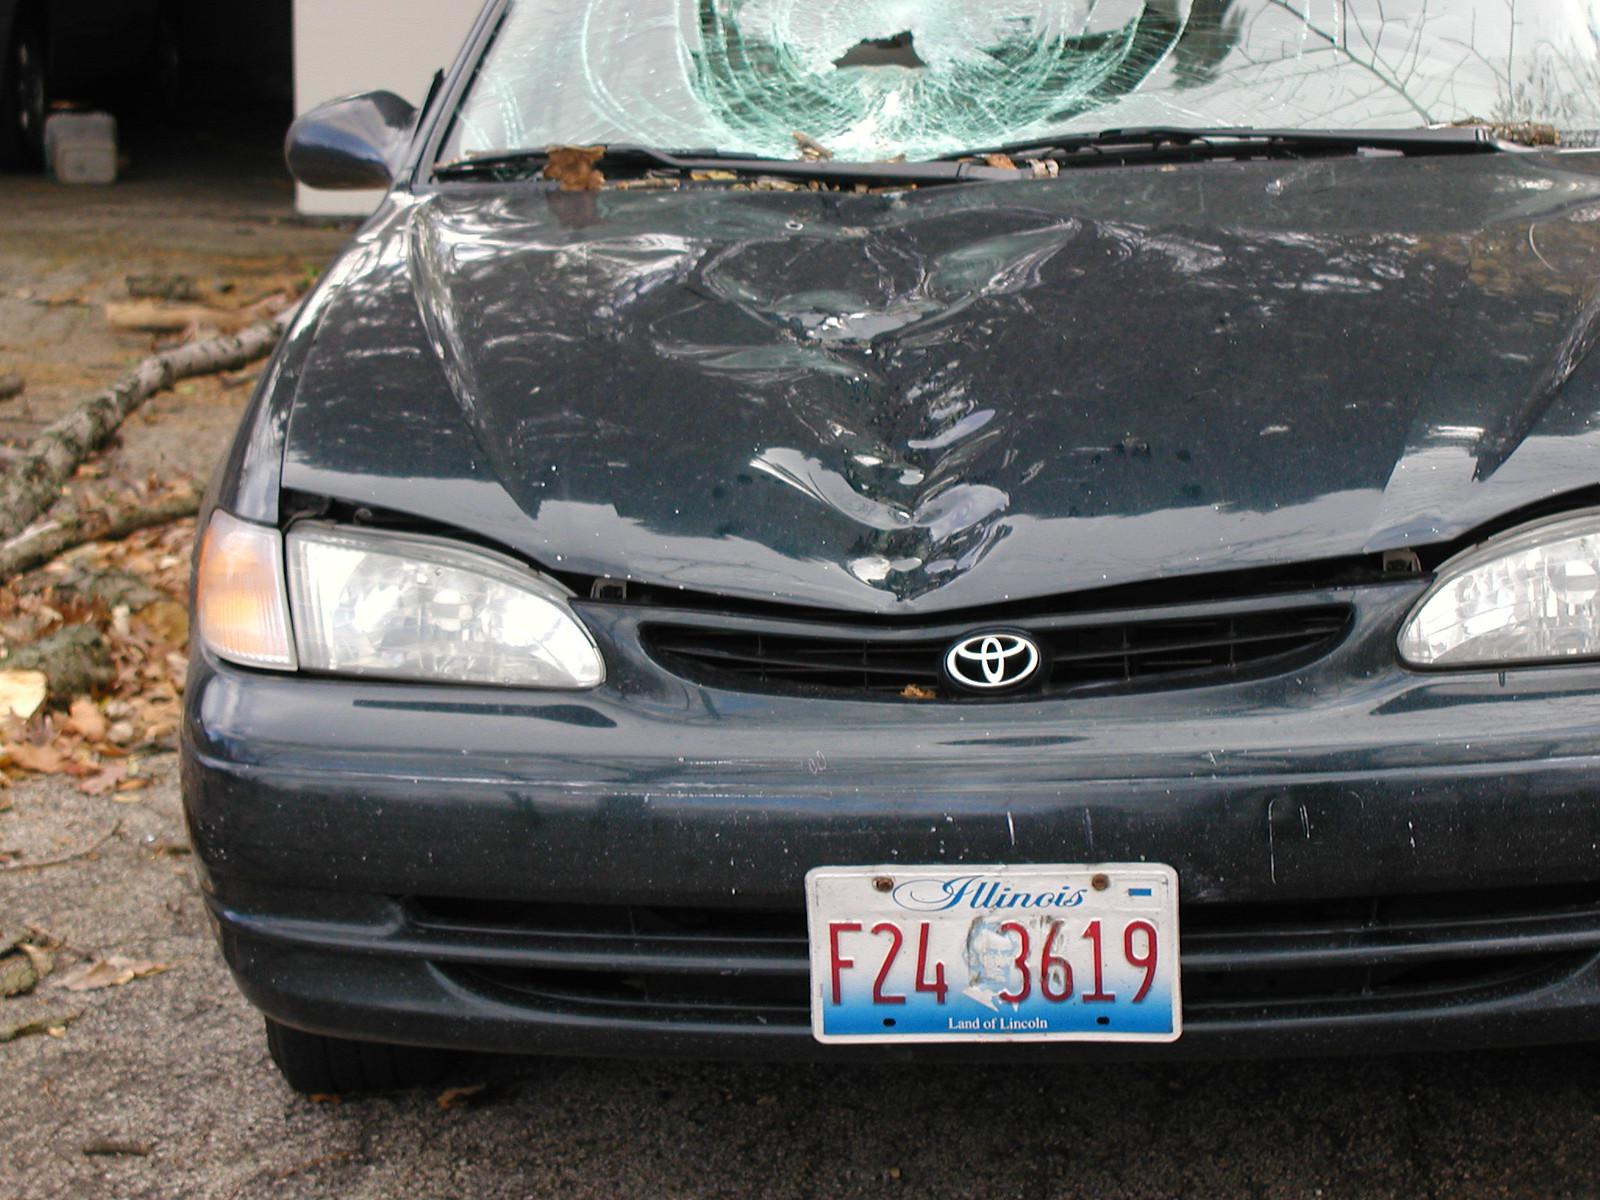Front-Windscreen-Damage: (401, 0, 1599, 223)
bonnet-dent: (307, 180, 1599, 545)
